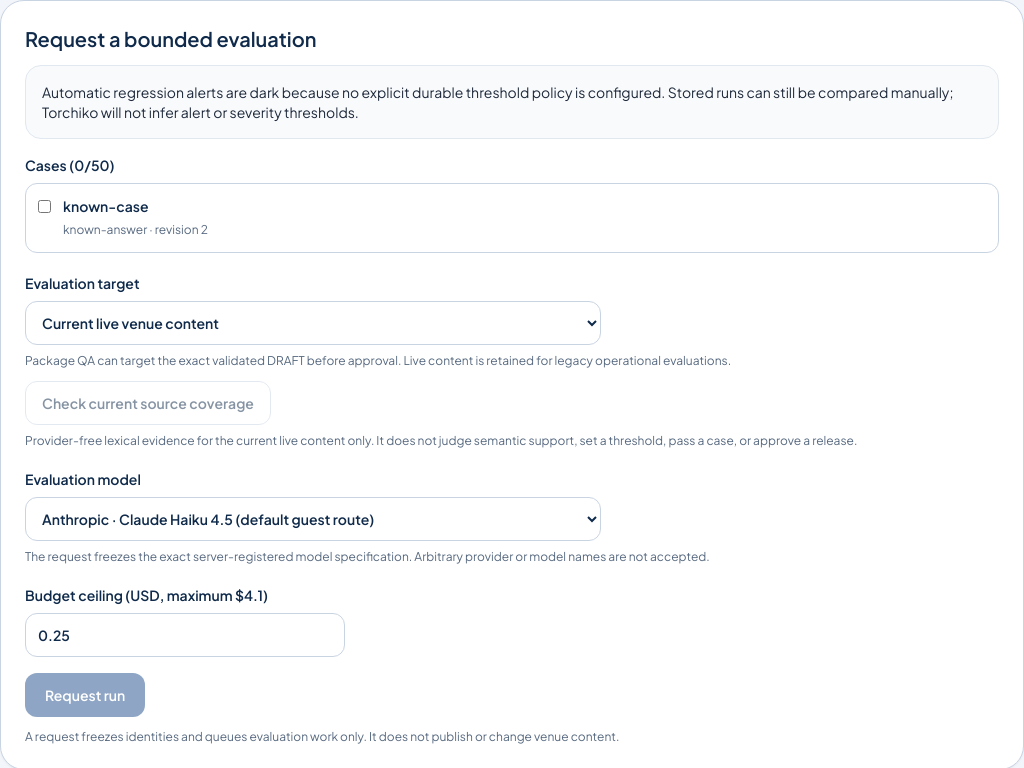
Test: EvaluationRunRequestPanel › refuses a run whose ceiling cannot conservatively reserve every selected case
Click the checkbox.
click(44, 206)  # box [38,200,51,213]
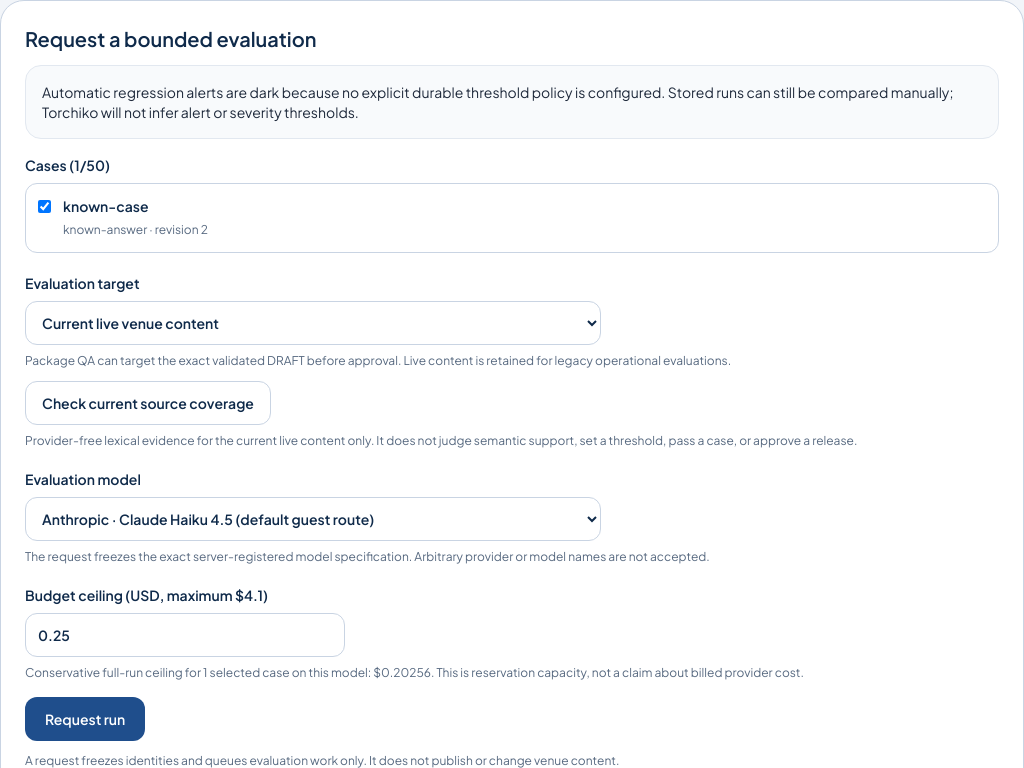
Replace the text in the field labelled "Budget ceiling" with "0.20" at coordinates (185, 635), box [25,613,345,657]
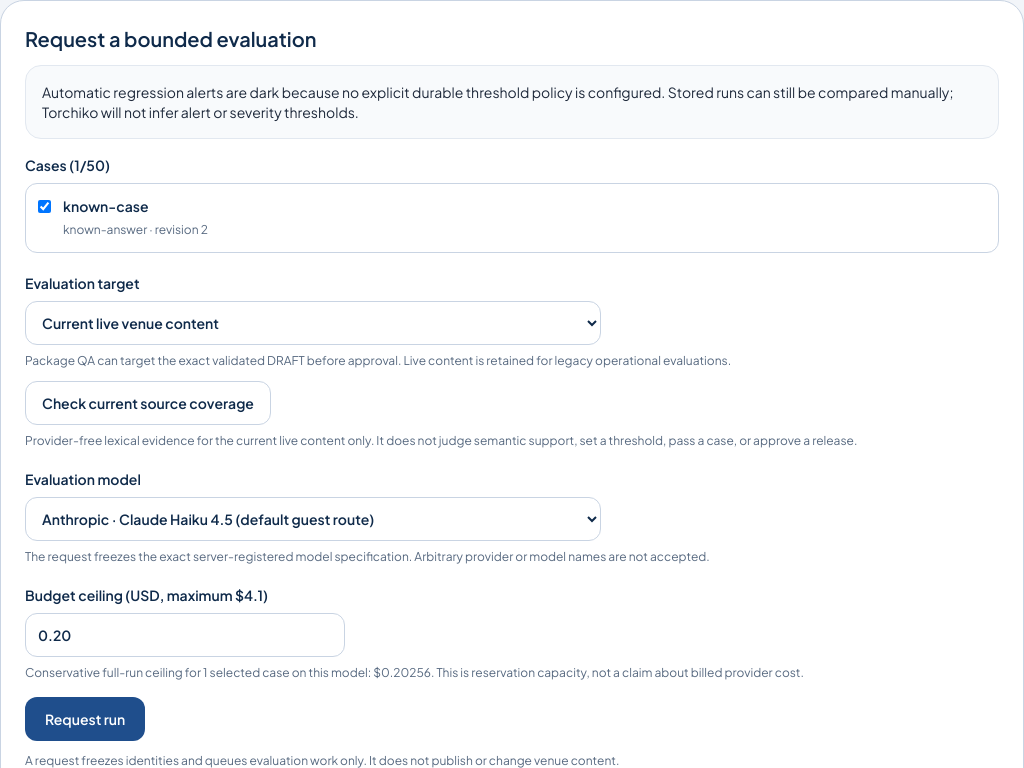
Click the button "Request run".
click(85, 719)  # box [25,697,145,741]
(page scrolled)
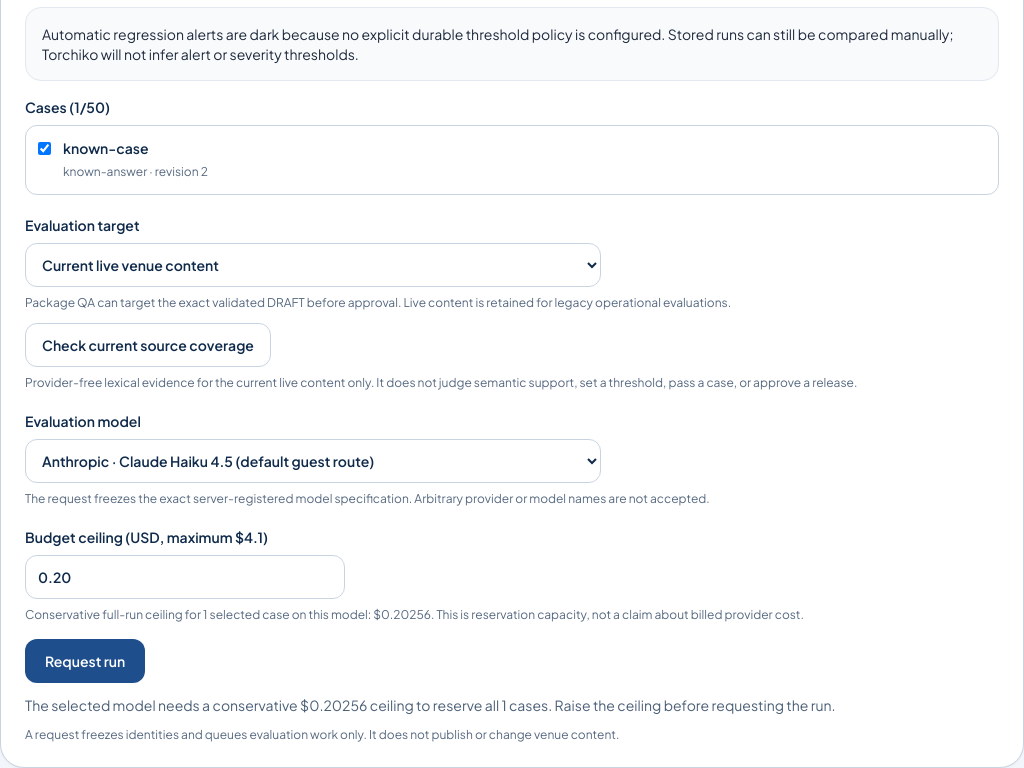
Check: the text "needs a conservative $0.20256 ceiling" is shown, box [25,696,836,714]
